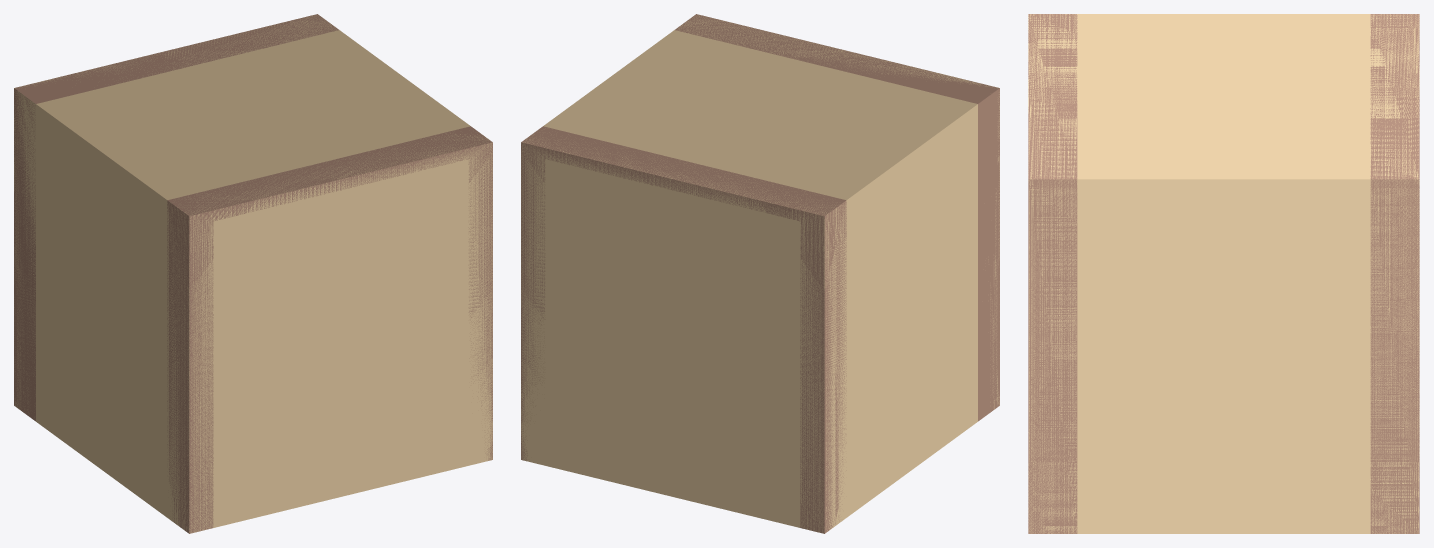
The picture shows the model from 3 angles, left to right: view 1: azimuth 30°, elevation 25°; view 2: azimuth 150°, elevation 25°; view 3: azimuth 270°, elevation 25°; orthographic projection. The views are drawn at different scales.
Bounding box in the file's own units: 65535 × 65535 × 65535.
